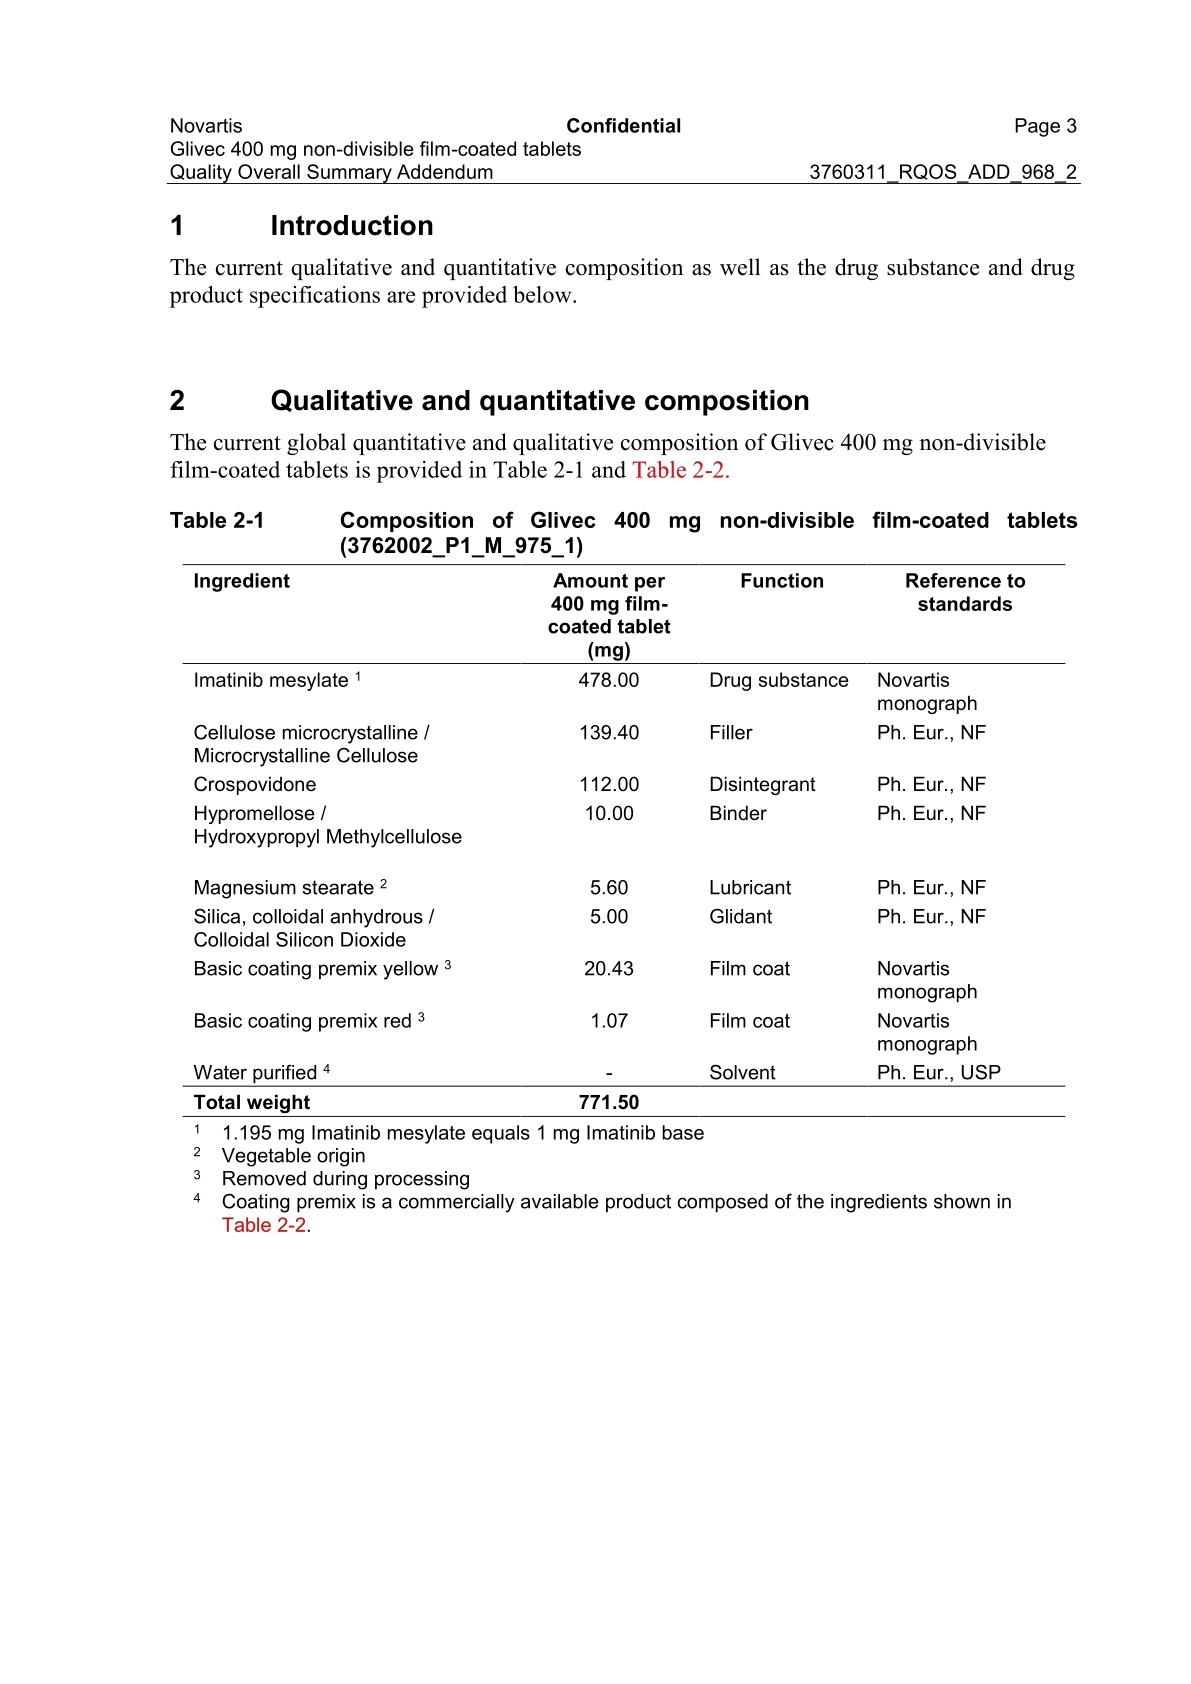partial_lined: (180, 563, 1066, 1118)
